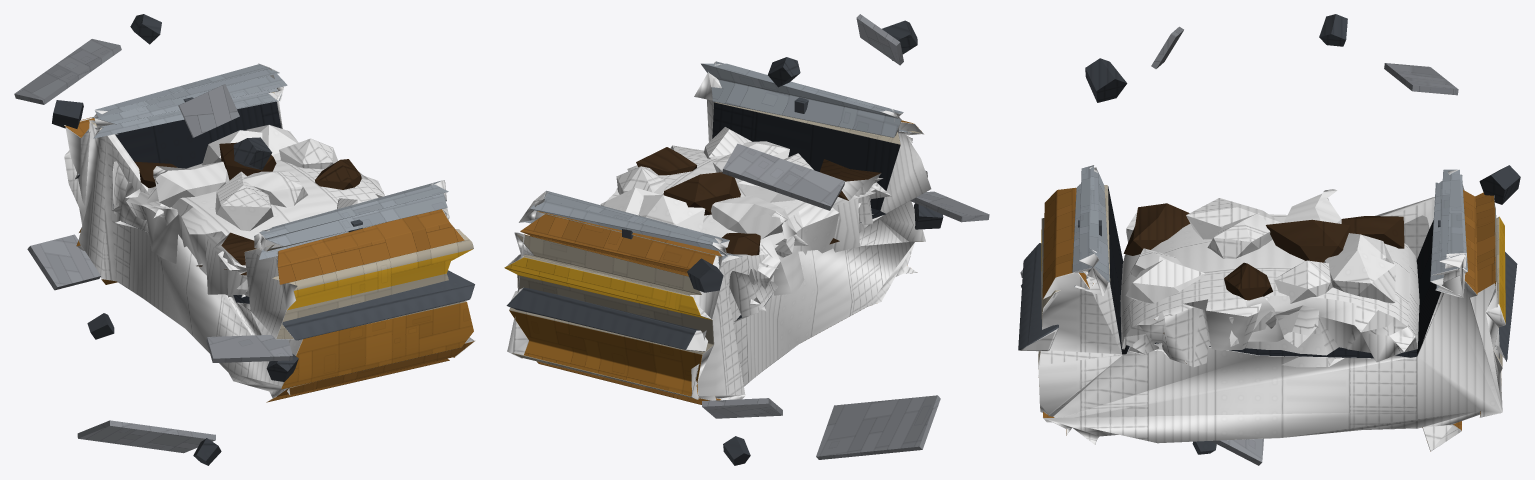
Rendered from aft_cargo_module.glb.
3 renders of one model, left to right at view 1: azimuth 30°, elevation 25°; view 2: azimuth 150°, elevation 25°; view 3: azimuth 270°, elevation 25°, orthographic. The views are drawn at different scales.
Visible parts, largest first — view 1: Hull, H1Heap, PipeRun, PipeRun_M, Strake_M, cargoA_t_tear1, cargoA_t_tear3, cargoA_t_tear2, H1Ore6, H1Ore5, cargoA_t_tear4, cargoA_t_tear0 (+14 smaller); view 2: Hull, H1Heap, PipeRun_M, cargoA_t_tear3, Strake, PipeRun, cargoA_t_tear1, H1Ore6, H1Ore10, H1Ore11, cargoA_t_tear2, cargoA_t_tear4 (+14 smaller); view 3: Hull, H1Heap, PipeRun, PipeRun_M, H1Ore15, H1Ore10, Strake_M, H1Ore4, H1Ore12, H1Ore9, H1Ore5, H1Ore14 (+13 smaller).
Boxes of the visible parts, left/top/right/bottom form: Hull: left=64, top=92, right=474, bottom=402; H1Heap: left=112, top=159, right=384, bottom=299; PipeRun: left=92, top=63, right=287, bottom=138; PipeRun_M: left=254, top=180, right=449, bottom=259; Strake_M: left=282, top=270, right=474, bottom=340; cargoA_t_tear1: left=14, top=39, right=121, bottom=104; cargoA_t_tear3: left=77, top=420, right=215, bottom=453; cargoA_t_tear2: left=27, top=234, right=100, bottom=290; H1Ore6: left=153, top=161, right=229, bottom=217; H1Ore5: left=215, top=171, right=273, bottom=231; cargoA_t_tear4: left=206, top=334, right=292, bottom=362; cargoA_t_tear0: left=178, top=84, right=239, bottom=137; Hull: left=504, top=99, right=931, bottom=404; H1Heap: left=607, top=145, right=882, bottom=312; PipeRun_M: left=694, top=61, right=912, bottom=137; cargoA_t_tear3: left=816, top=395, right=940, bottom=459; Strake: left=506, top=287, right=707, bottom=351; PipeRun: left=519, top=190, right=742, bottom=263; cargoA_t_tear1: left=722, top=143, right=845, bottom=210; H1Ore6: left=711, top=195, right=808, bottom=245; H1Ore10: left=663, top=172, right=740, bottom=215; H1Ore11: left=638, top=195, right=705, bottom=231; cargoA_t_tear2: left=702, top=398, right=782, bottom=418; cargoA_t_tear4: left=910, top=191, right=989, bottom=222; Hull: left=1038, top=184, right=1505, bottom=451; H1Heap: left=1120, top=214, right=1419, bottom=367; PipeRun: left=1430, top=169, right=1467, bottom=297; PipeRun_M: left=1072, top=165, right=1109, bottom=295; H1Ore15: left=1324, top=249, right=1395, bottom=303; H1Ore10: left=1266, top=219, right=1351, bottom=262; Strake_M: left=1018, top=243, right=1058, bottom=351; H1Ore4: left=1123, top=203, right=1190, bottom=255; H1Ore12: left=1125, top=259, right=1205, bottom=303; H1Ore9: left=1207, top=213, right=1272, bottom=258; H1Ore5: left=1186, top=198, right=1281, bottom=239; H1Ore14: left=1274, top=260, right=1332, bottom=303.
Size of the model in its own units: 11.08 by 14.77 by 14.96.
13 materials, 13 textured.
